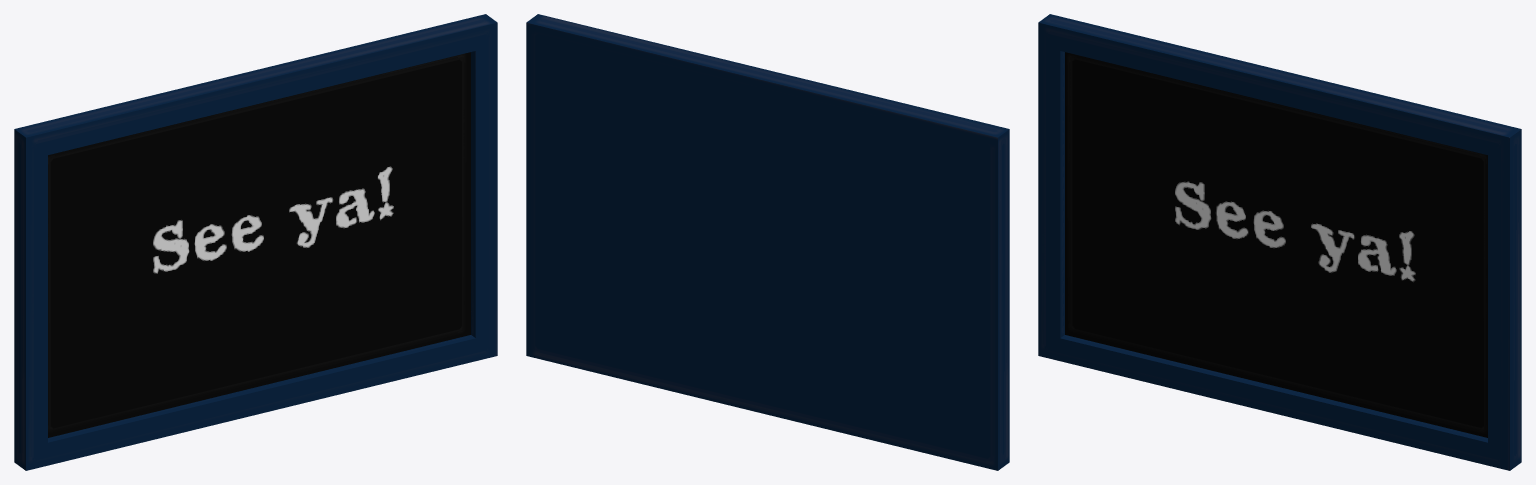
The model's file is JBayer_TVScreen_WithText.fbx.
The picture shows the model from 3 angles, left to right: view 1: azimuth 30°, elevation 25°; view 2: azimuth 150°, elevation 25°; view 3: azimuth 330°, elevation 25°; orthographic projection.
Visible parts, largest first — view 1: TV_WithText; view 2: TV_WithText; view 3: TV_WithText.
Part boxes in pixels (x1,y1,x2,y2): TV_WithText: (14,14,497,470); TV_WithText: (526,14,1009,470); TV_WithText: (1038,14,1521,470).
Size of the model in its own units: 402 by 272 by 17.38.
Materials: 1 (1 with a texture image).
